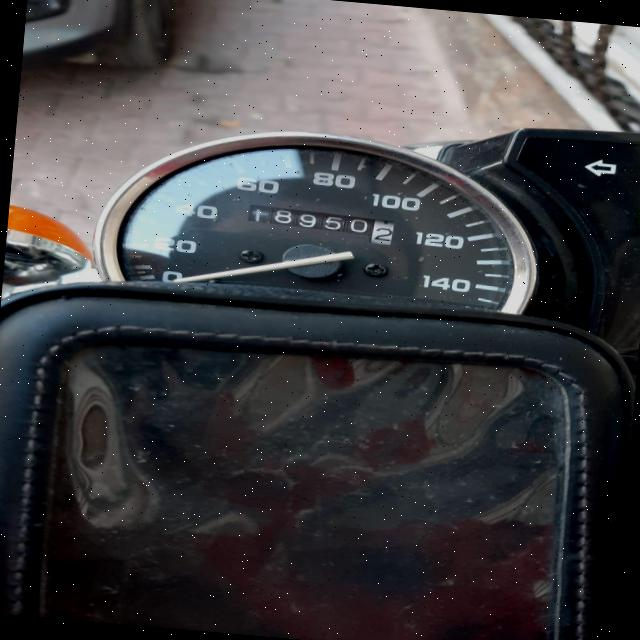odometer: (242, 202, 405, 248)
